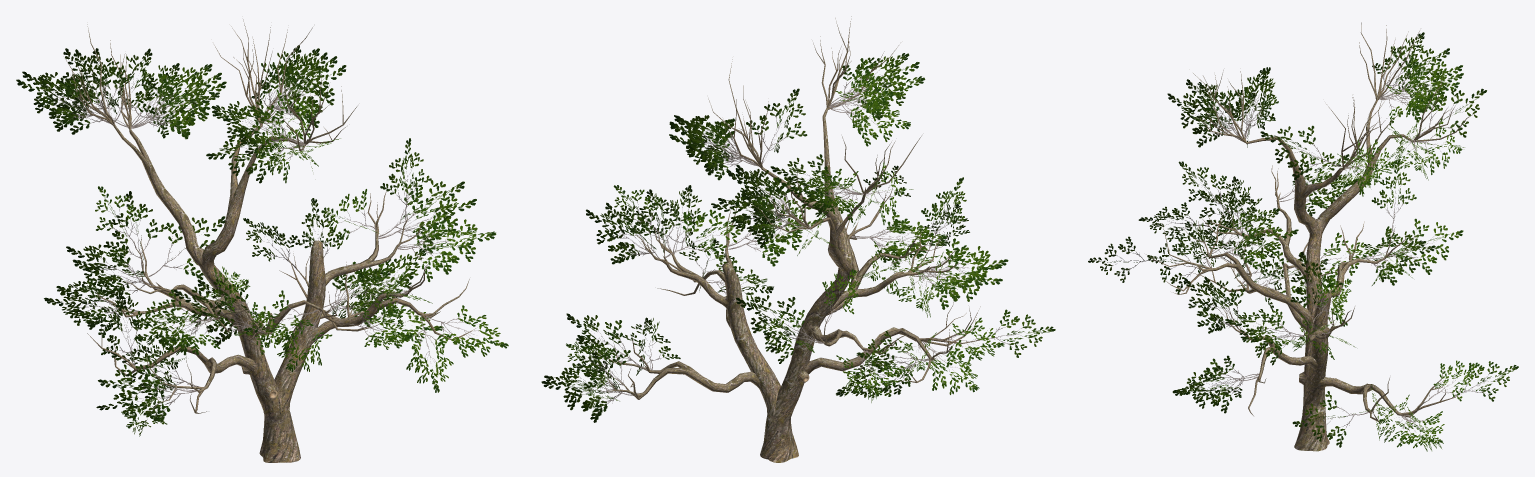
Rendered from Oakninety.obj.
3 renders of one model, left to right at view 1: azimuth 30°, elevation 25°; view 2: azimuth 150°, elevation 25°; view 3: azimuth 270°, elevation 25°, orthographic. The views are drawn at different scales.
Parts seen in each view (by area): view 1: oak leaf, mossybark02; view 2: oak leaf, mossybark02; view 3: oak leaf, mossybark02.
Boxes of the visible parts, x1=… form: oak leaf: x1=16, y1=45, x2=508, y2=436; mossybark02: x1=65, y1=19, x2=475, y2=462; oak leaf: x1=541, y1=53, x2=1055, y2=422; mossybark02: x1=598, y1=16, x2=987, y2=462; oak leaf: x1=1088, y1=32, x2=1518, y2=451; mossybark02: x1=1146, y1=22, x2=1474, y2=451.
Bounding box in the file's own units: 803 × 789 × 827.
3 materials, 3 textured.
